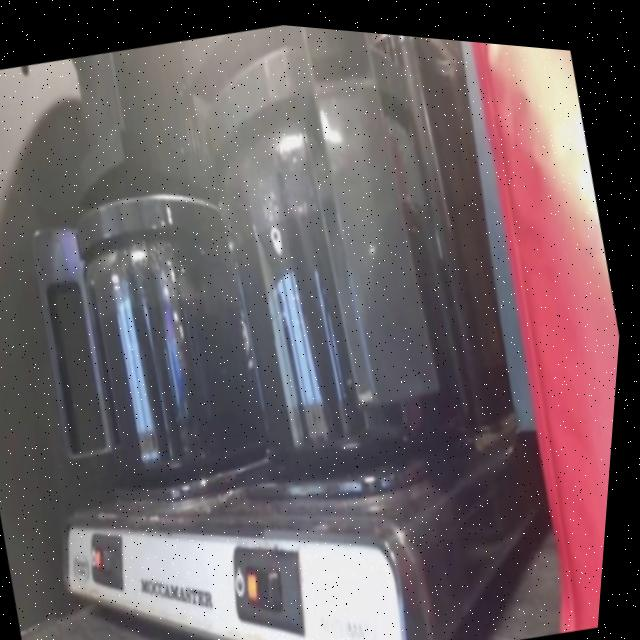coffee: (165, 13, 513, 500), (50, 151, 313, 506)
